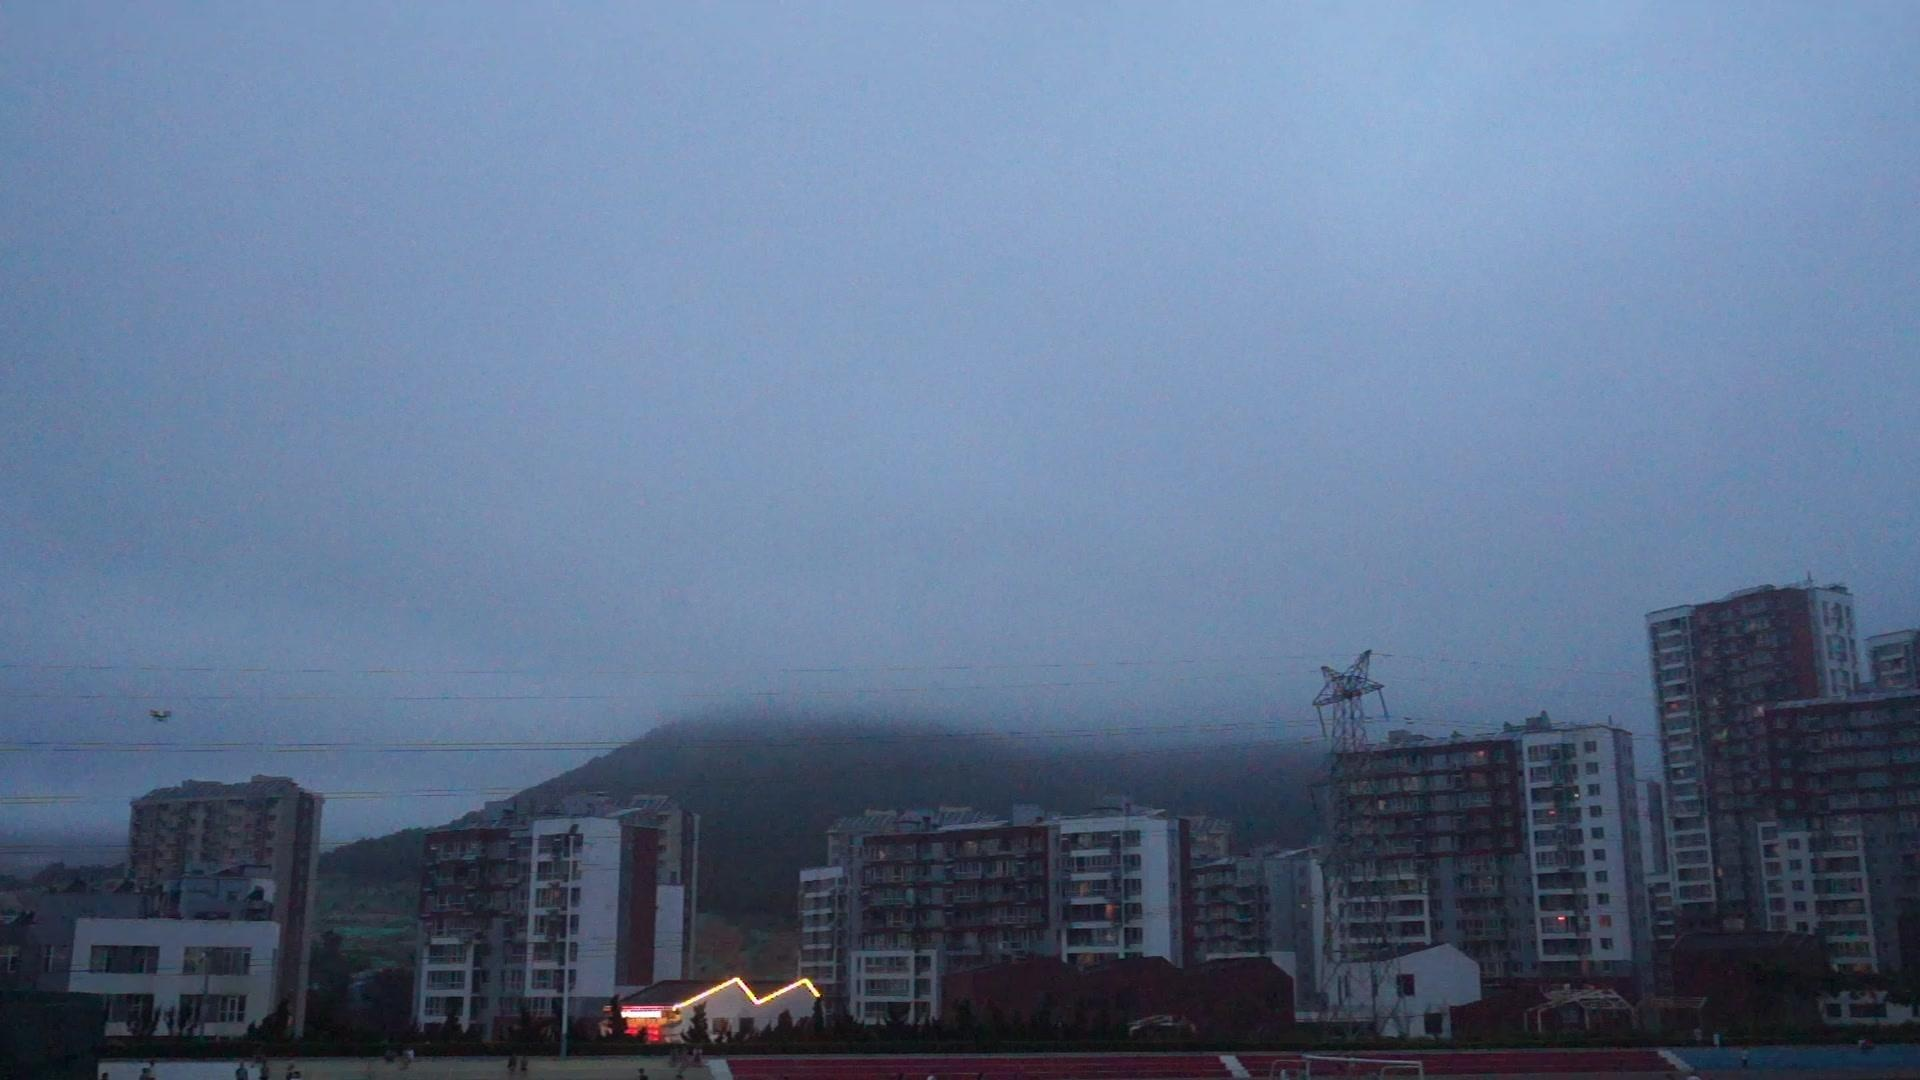UAV: (149, 709, 174, 727)
